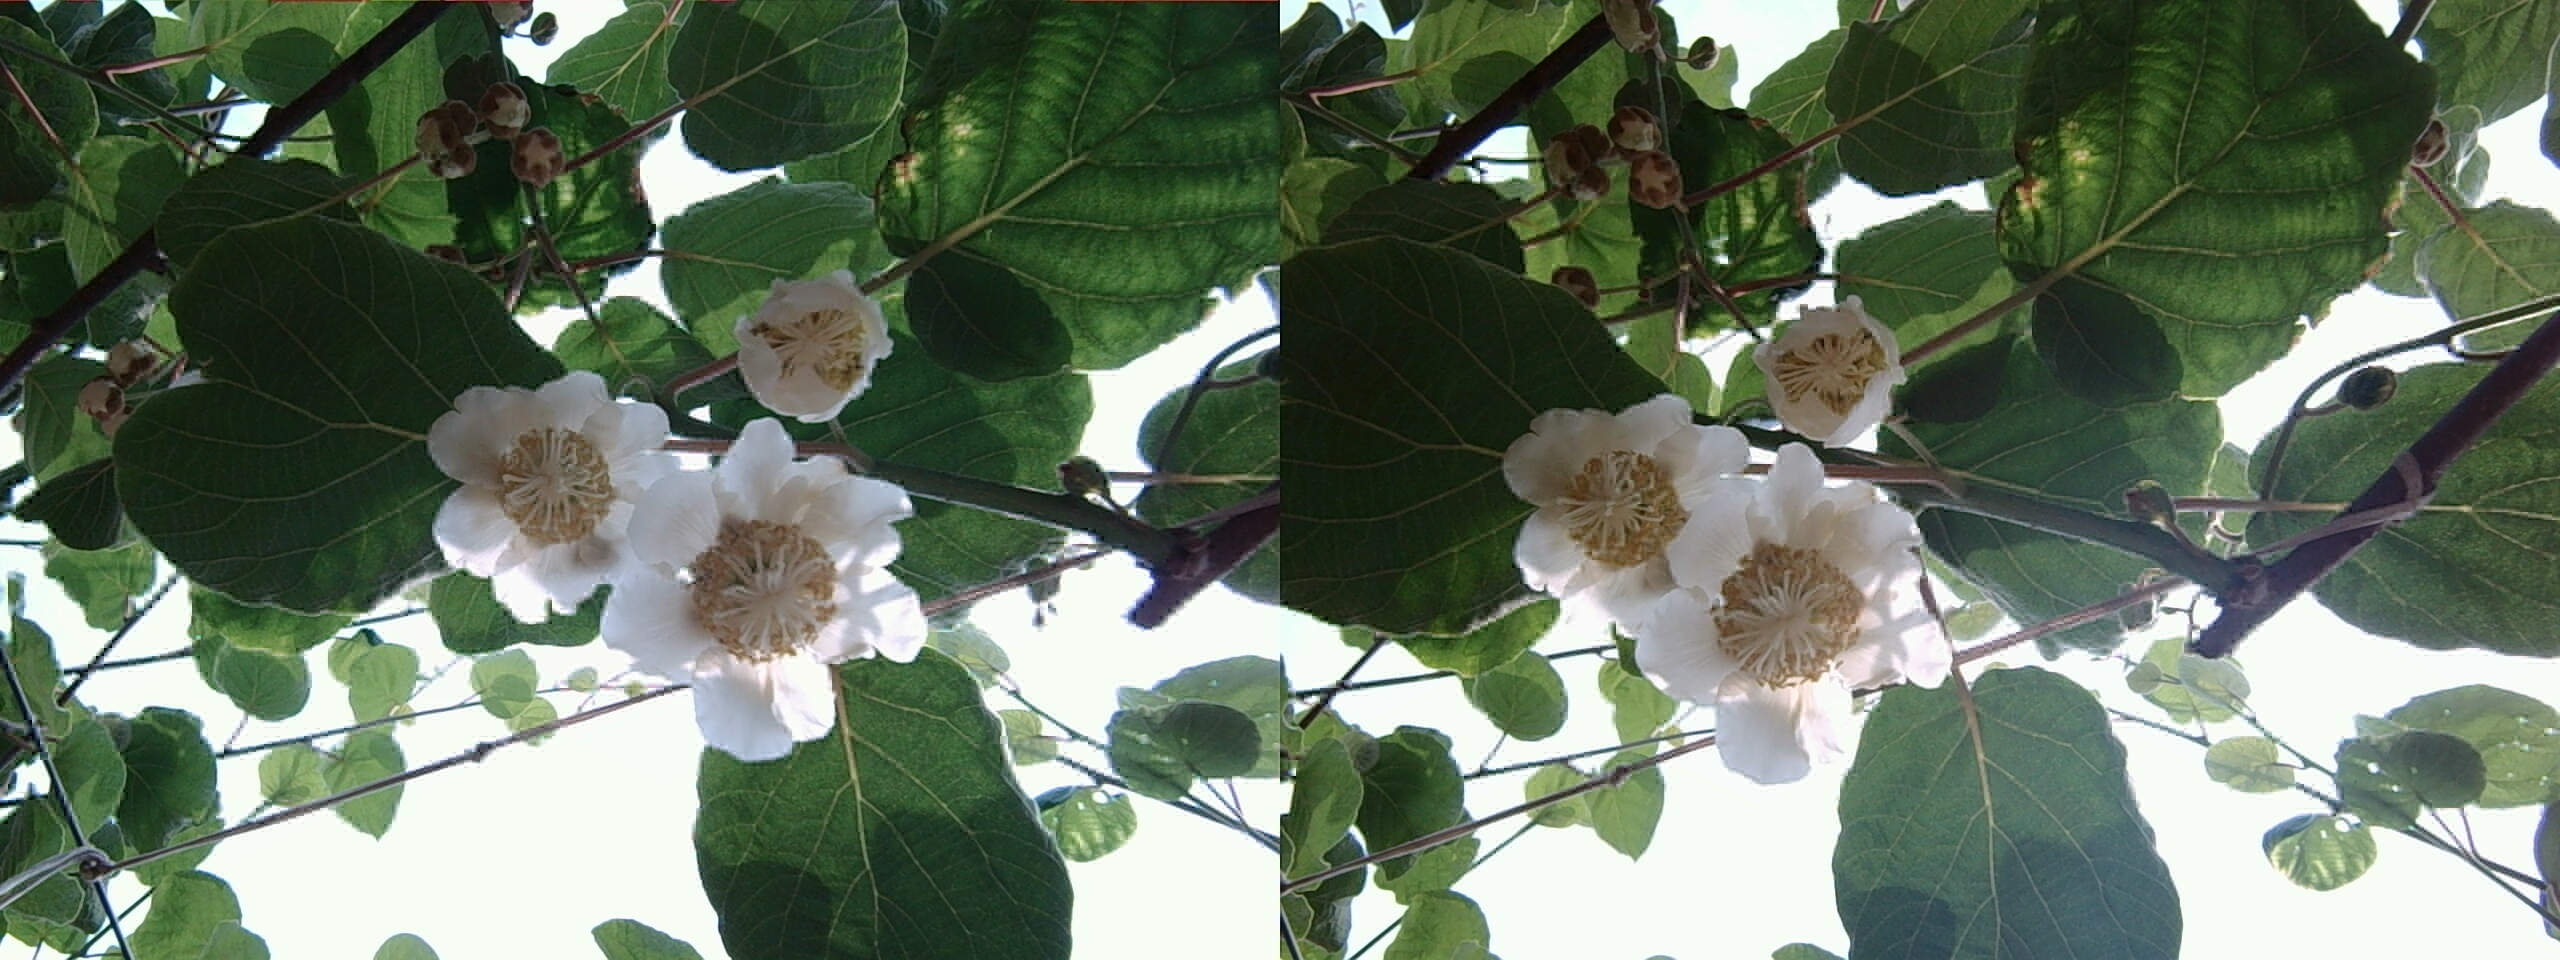flower: (607, 433, 906, 730), (1631, 447, 1920, 749), (420, 369, 660, 591), (1504, 385, 1724, 606), (1740, 291, 1909, 442), (725, 268, 893, 415)
